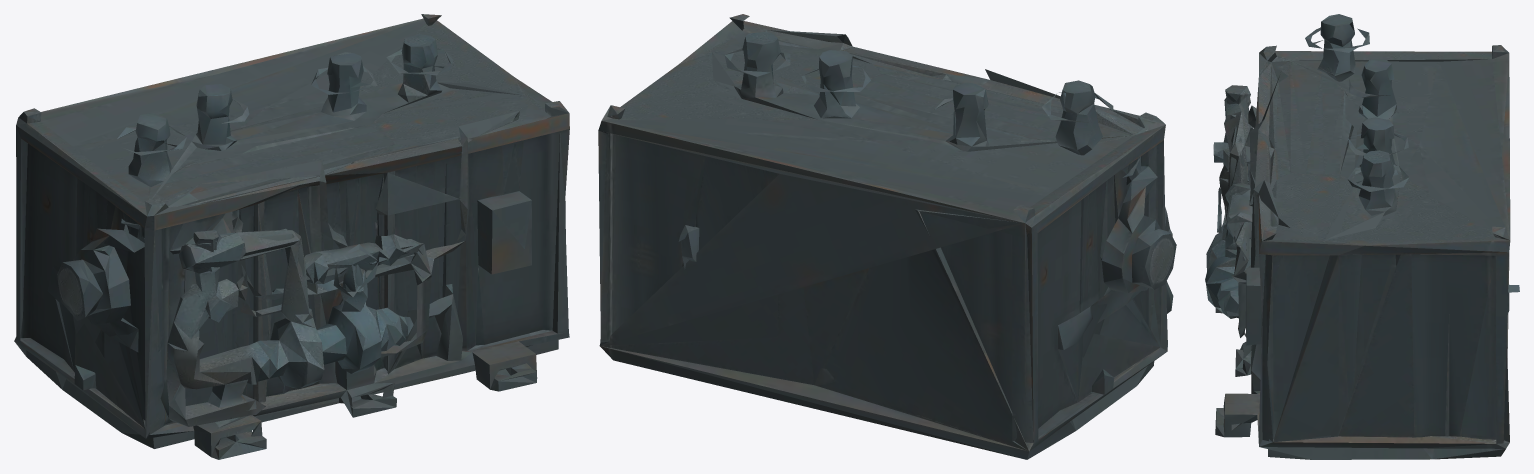
Rendered from pump_house.glb.
3 views of the same model, side by side, from view 1: azimuth 30°, elevation 25°; view 2: azimuth 150°, elevation 25°; view 3: azimuth 270°, elevation 25° (orthographic). The views are drawn at different scales.
Size of the model in its own units: 11.49 by 7 by 7.35.
1 material, 1 textured.
